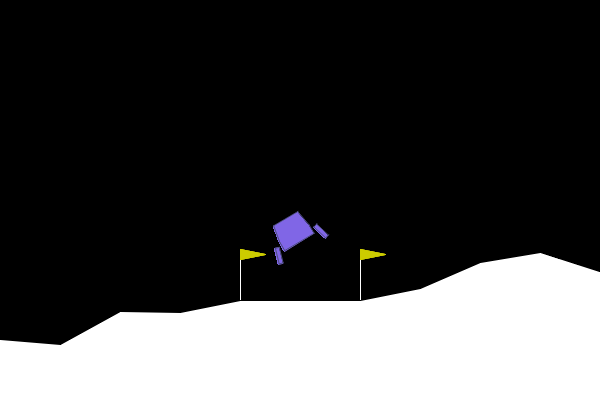lander: (258, 202, 330, 267)
